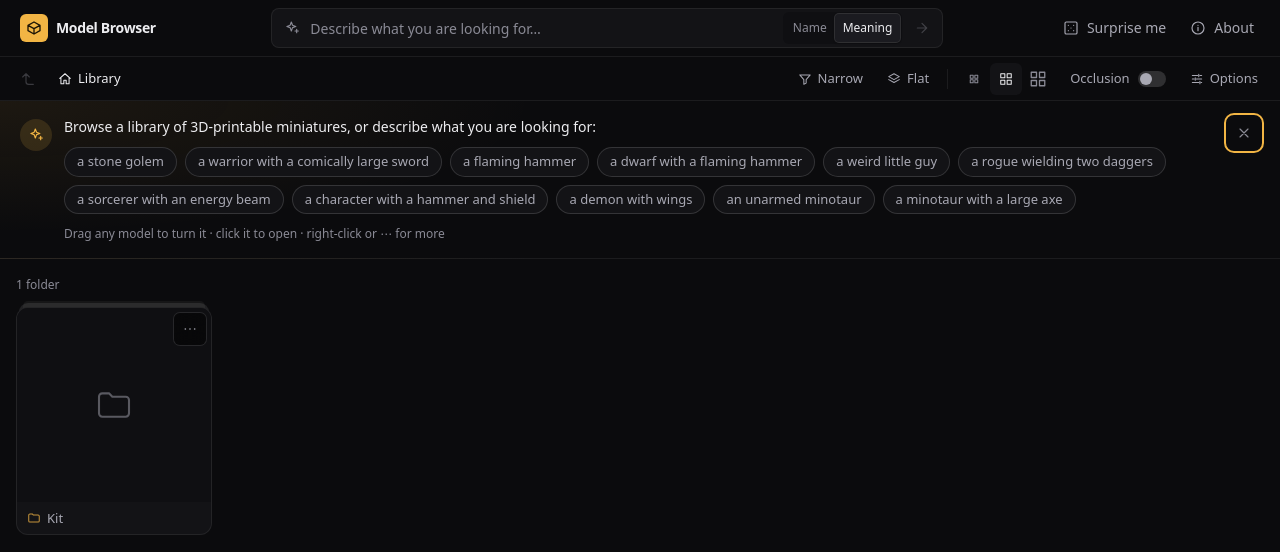
Test case: dismissal › moves focus to the search box, which the ✕ it unmounts had
The image size is (1280, 552).
Click the button named "Dismiss introduction": [1244, 133] box [1228, 117, 1260, 149]
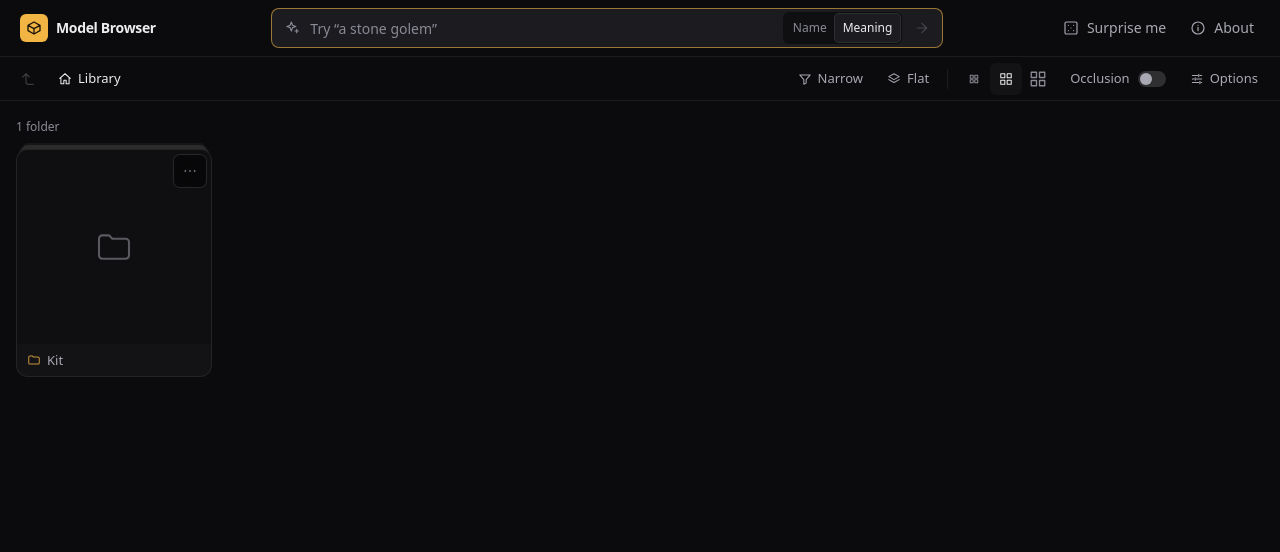
Expected: the button named "Introduction" is gone
